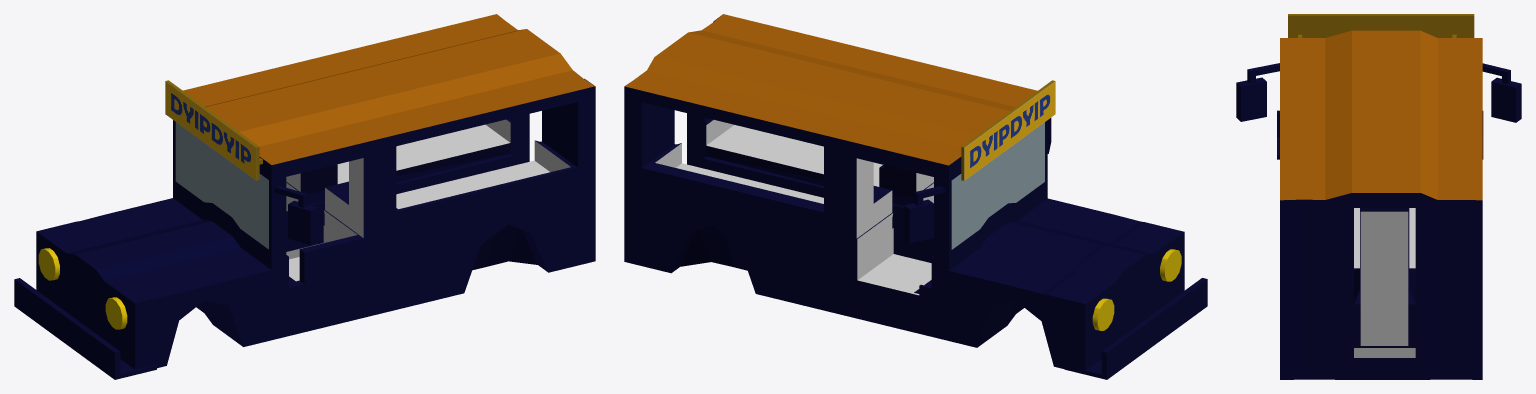
File: Jeep.fbx
The picture shows the model from 3 angles, left to right: view 1: azimuth 30°, elevation 25°; view 2: azimuth 150°, elevation 25°; view 3: azimuth 270°, elevation 25°; orthographic projection. The views are drawn at different scales.
Parts seen in each view (by area): view 1: polySurface13; view 2: polySurface13; view 3: polySurface13.
Part boxes in pixels (left/top/right/bottom): polySurface13: left=14, top=14, right=595, bottom=379; polySurface13: left=624, top=14, right=1207, bottom=379; polySurface13: left=1236, top=14, right=1521, bottom=379.
Size of the model in its own units: 30.15 by 11.56 by 15.05.
9 materials, 1 textured.
